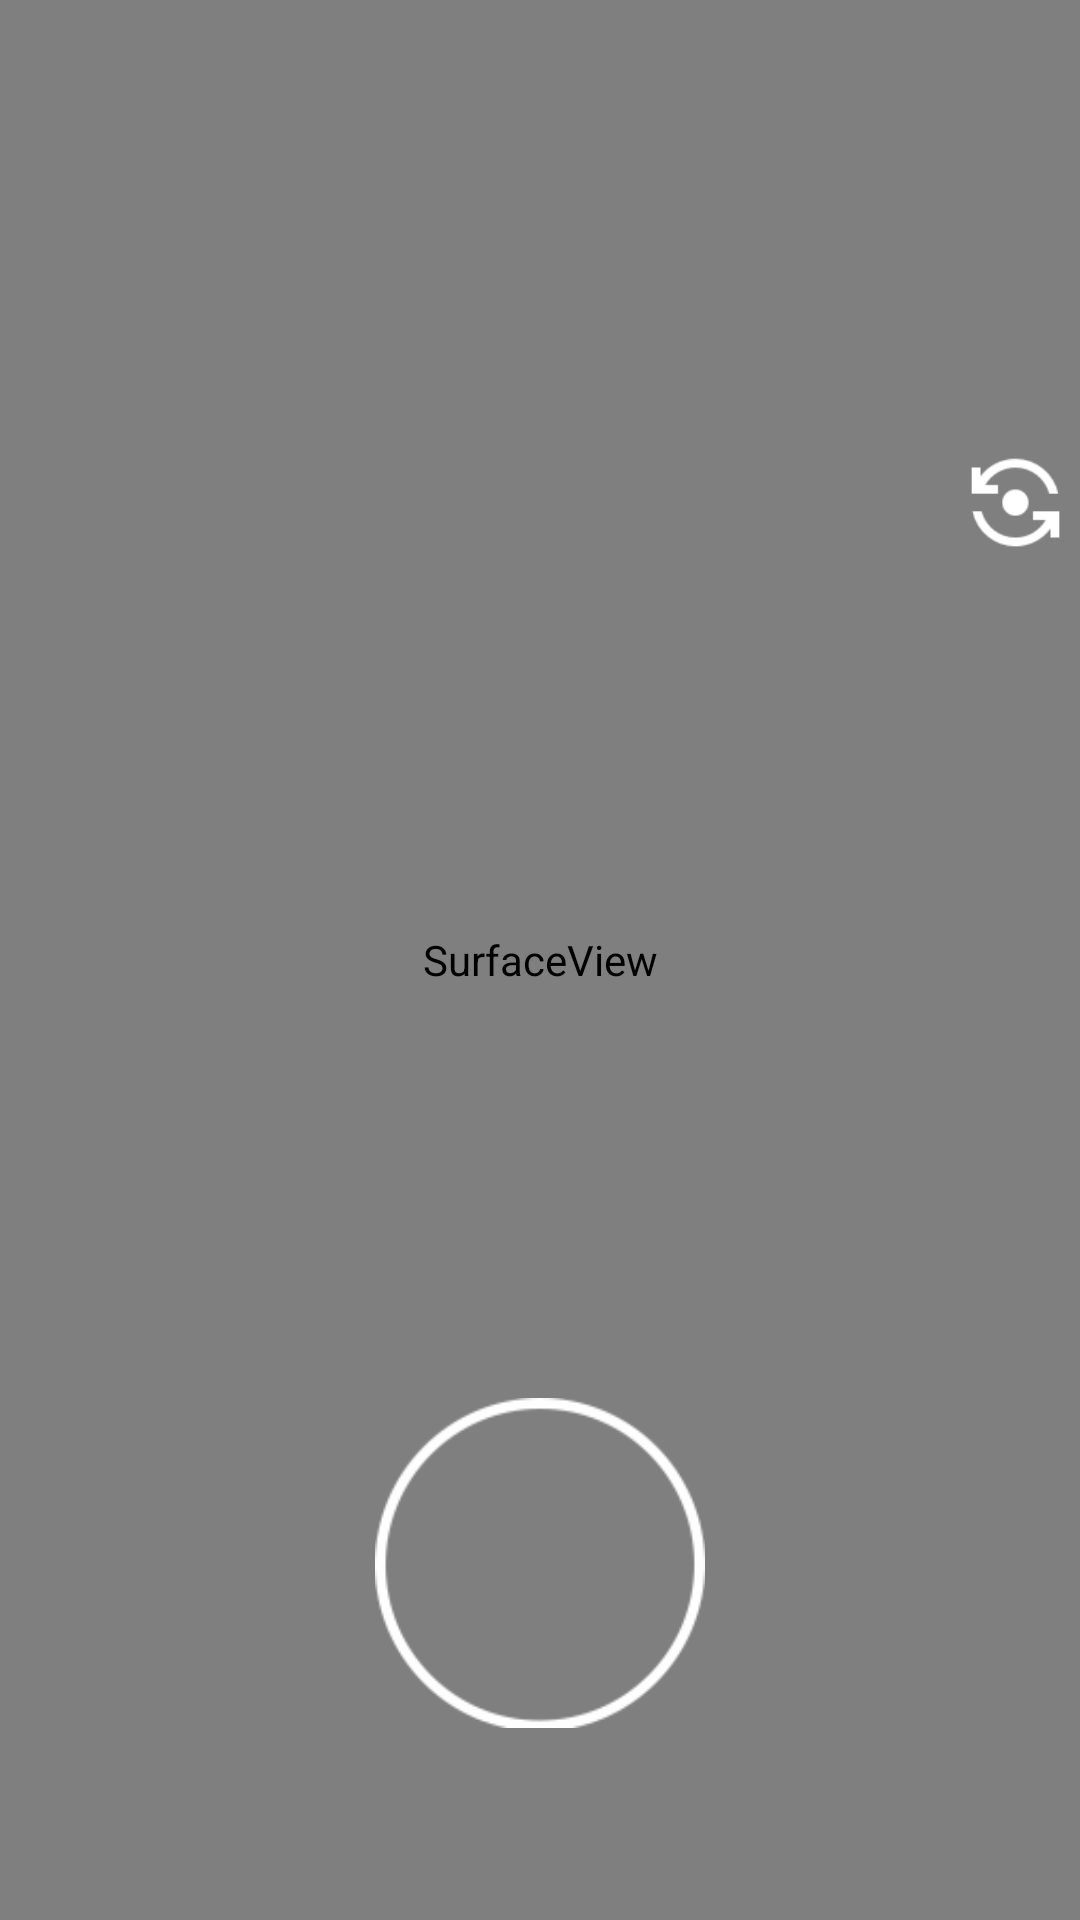

Locate icon controls on the screen. Image size 1080x1920, boxes as (x1, y1, x2, y2).
Capture button: (375, 1398, 705, 1728)
Rotate camera: (971, 458, 1060, 547)
